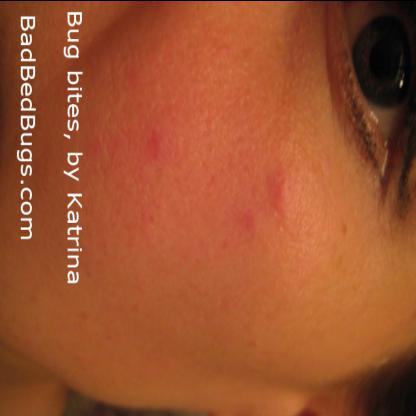Bed Bug: (237, 156, 293, 246), (143, 122, 176, 178)
